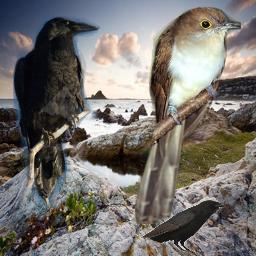Crow: (13, 16, 100, 211), (141, 199, 226, 255)
Cuckoo: (135, 5, 241, 224)
